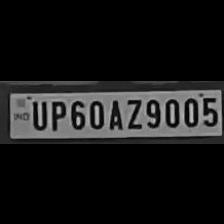0: (86, 96, 106, 128), (162, 95, 180, 127), (180, 94, 198, 125)
5: (200, 93, 218, 126)
6: (68, 96, 86, 128)
9: (142, 94, 162, 128)
A: (106, 97, 124, 129)
P: (48, 96, 66, 130)
U: (28, 97, 48, 129)
Z: (122, 95, 142, 129)
